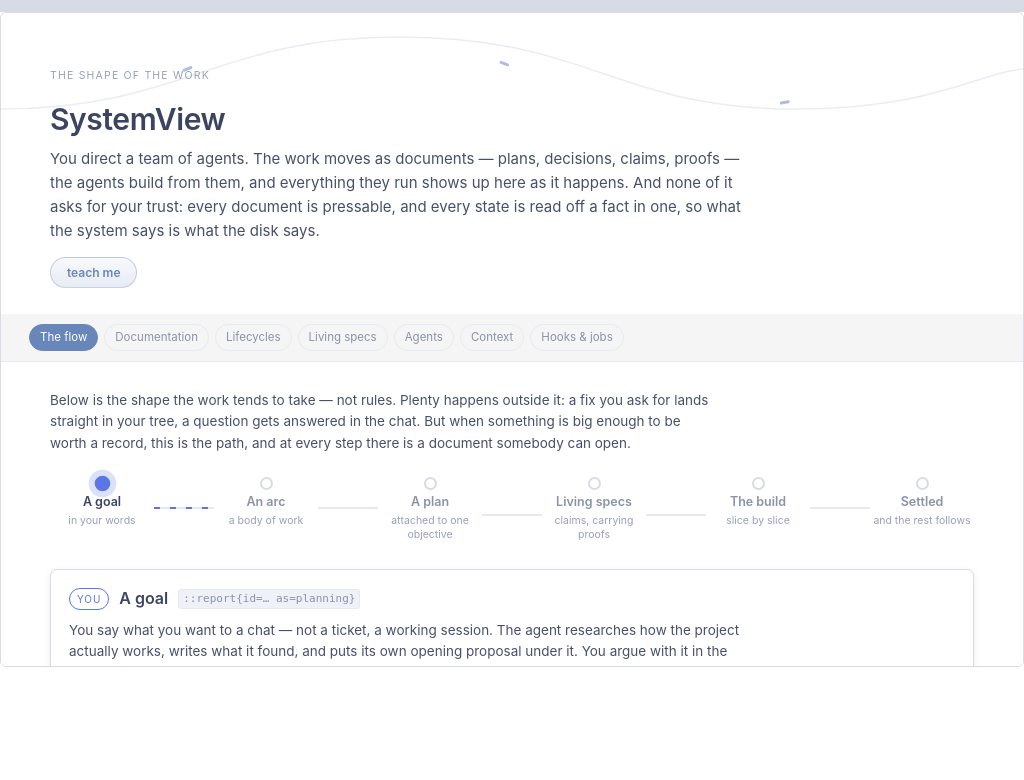
Test: HowWeWork › the agents page stands between Living specs and Context, and draws the fleet
Click the tab "Agents" at (424, 337), box [394,324,454,350]
(page scrolled)
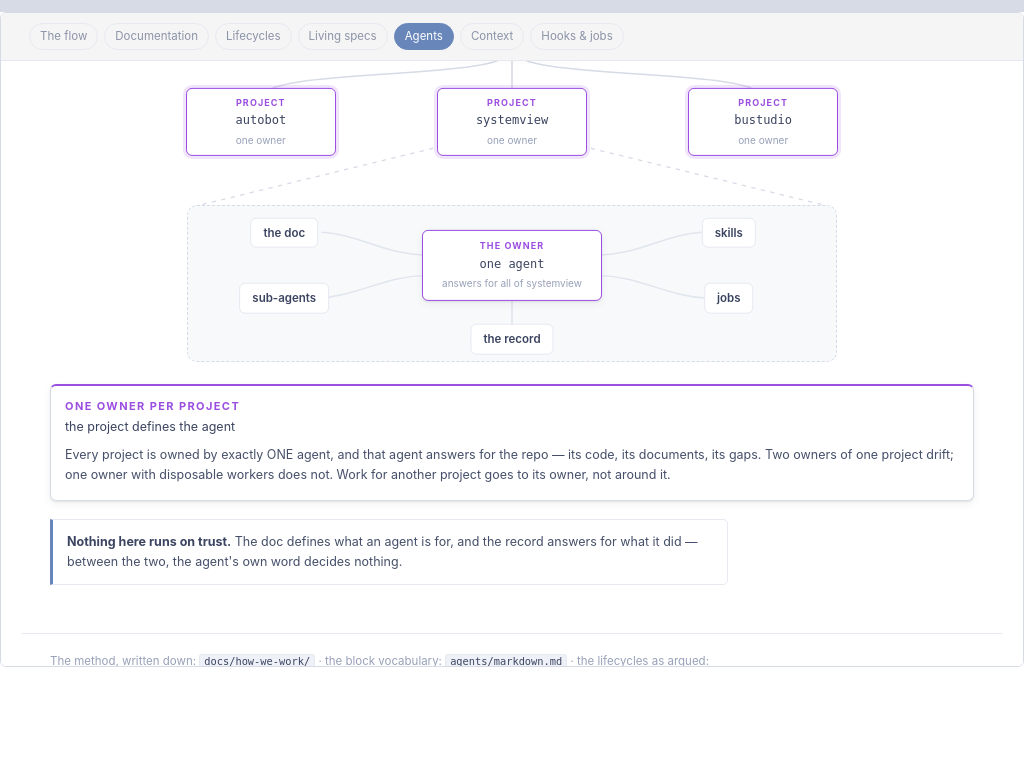
Now the number of buttons with class "hww-fleet__you" is 1, box [442,12,582,55]
Now the number of buttons with class "hww-fleet__proj" is 3, box [186,87,336,156]; [437,87,587,156]; [688,87,838,156]
Now the number of buttons with class "hww-fleet__sat" is 5
Click the button "the record" at (512, 339), box [470,324,554,355]
(page scrolled)
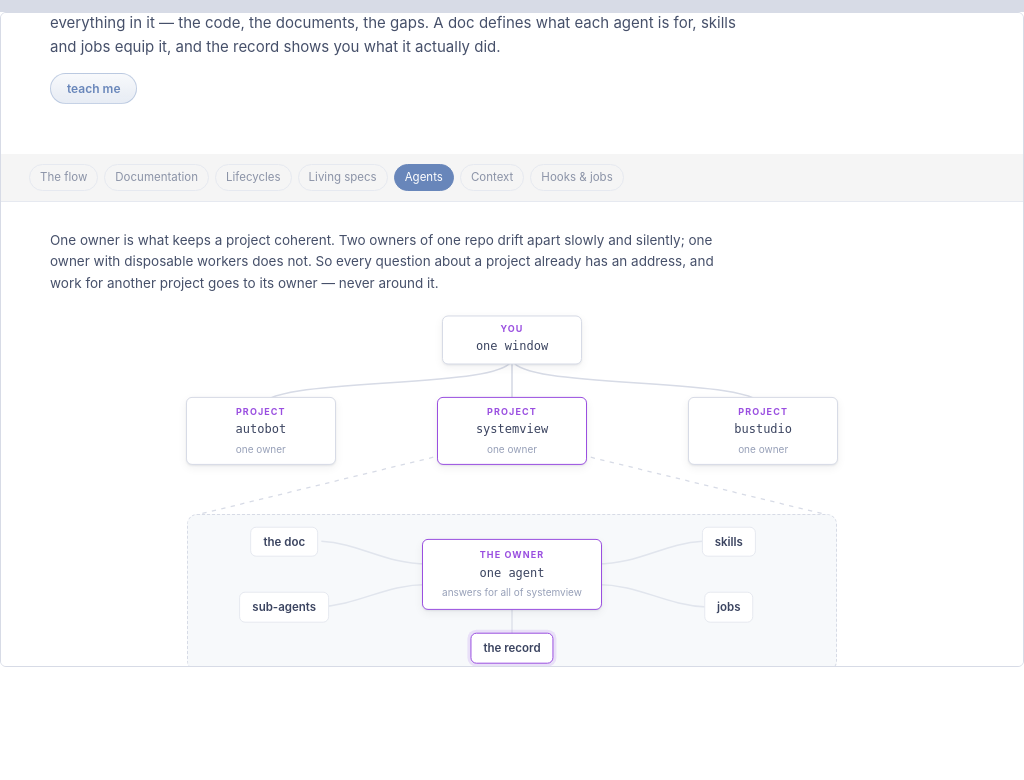
the wire down from the window is the room — pressing the window says so
Click the button "you one window" at (512, 340), box [442,315,582,364]
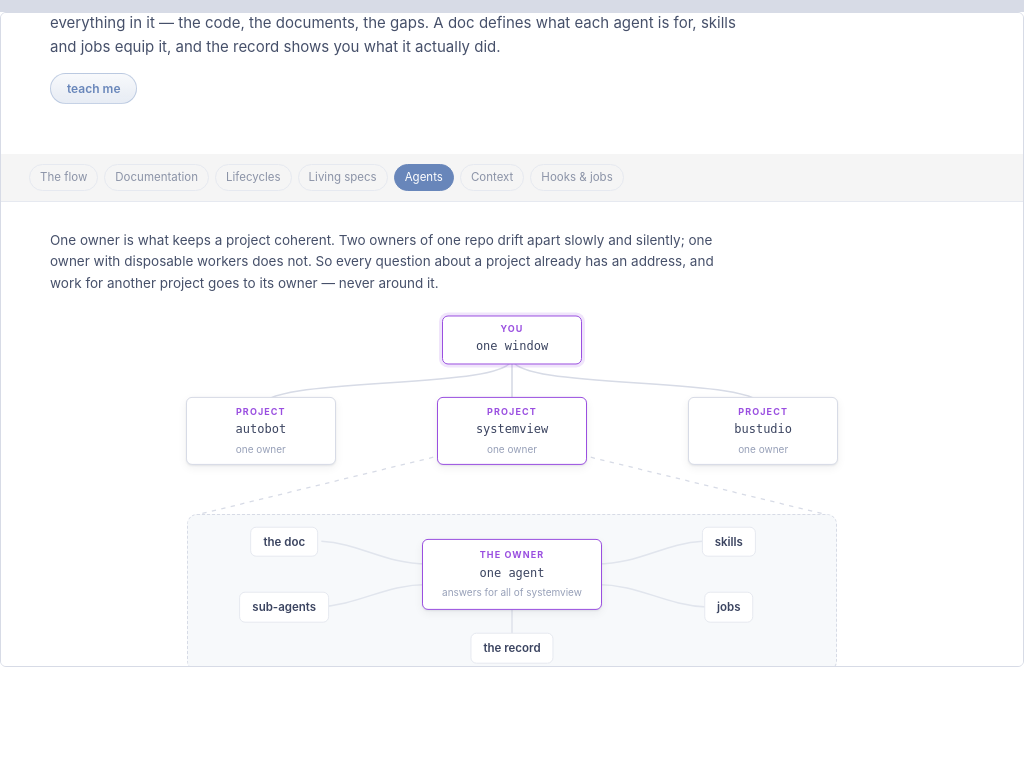
sub-agents is a tentacle too (his add) — pressing it answers with the delegation fact
Click the button "sub-agents" at (284, 607), box [239,592,329,622]
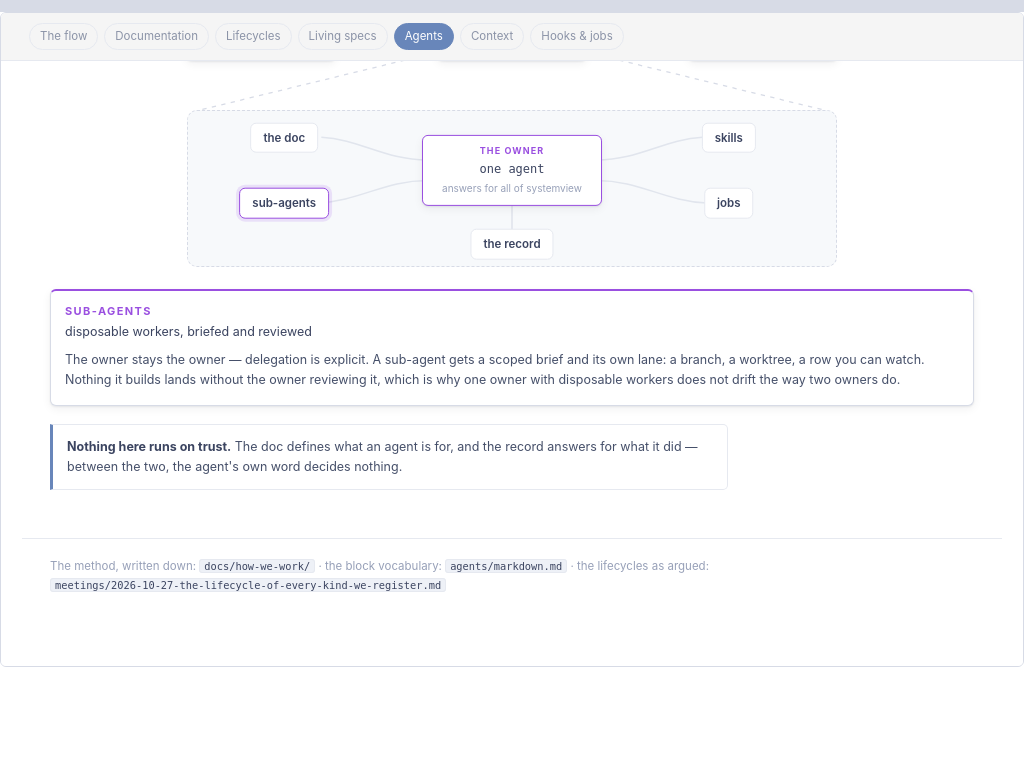
Now the text "The owner stays the owner" is shown, box [65,352,925,388]
